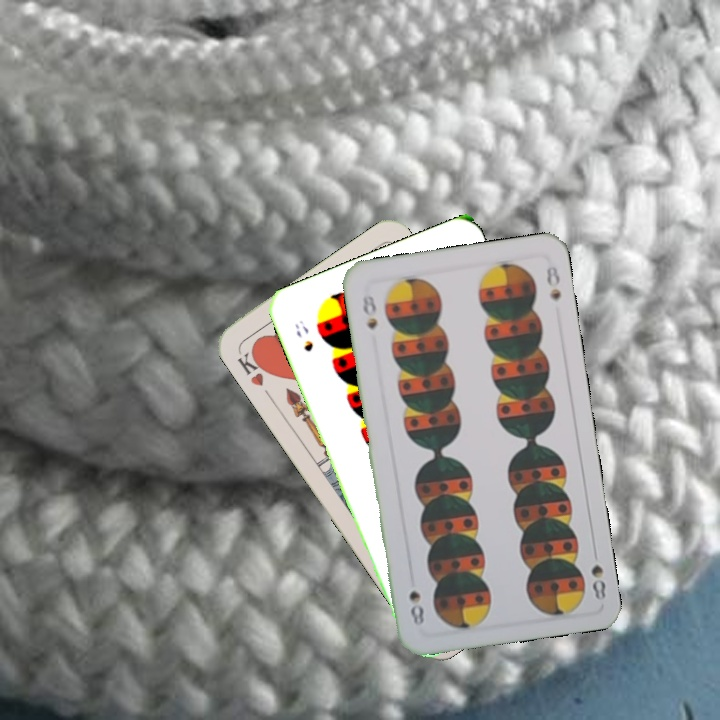HK: (233, 344, 272, 389)
S8: (587, 544, 608, 603), (291, 316, 316, 355), (358, 290, 380, 332)
